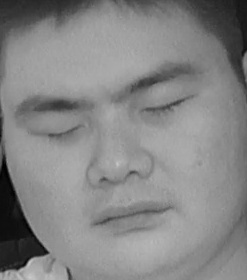blink: (31, 114, 88, 151), (141, 86, 193, 125)
mouth: (88, 189, 178, 241)
